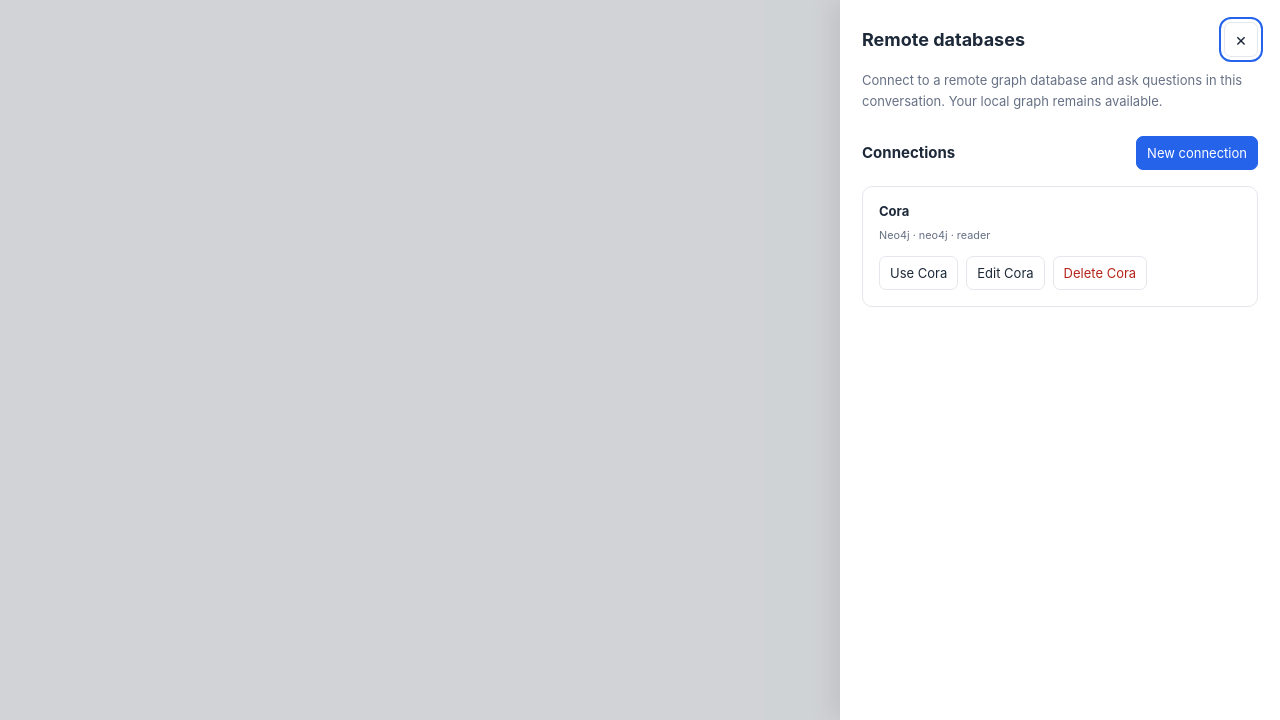
Test: saves once and retries only binding after a binding failure
The width and height of the screenshot is (1280, 720).
Click the button "Edit Cora" at (1005, 273), box x1=966 y1=256 x2=1045 y2=290
(page scrolled)
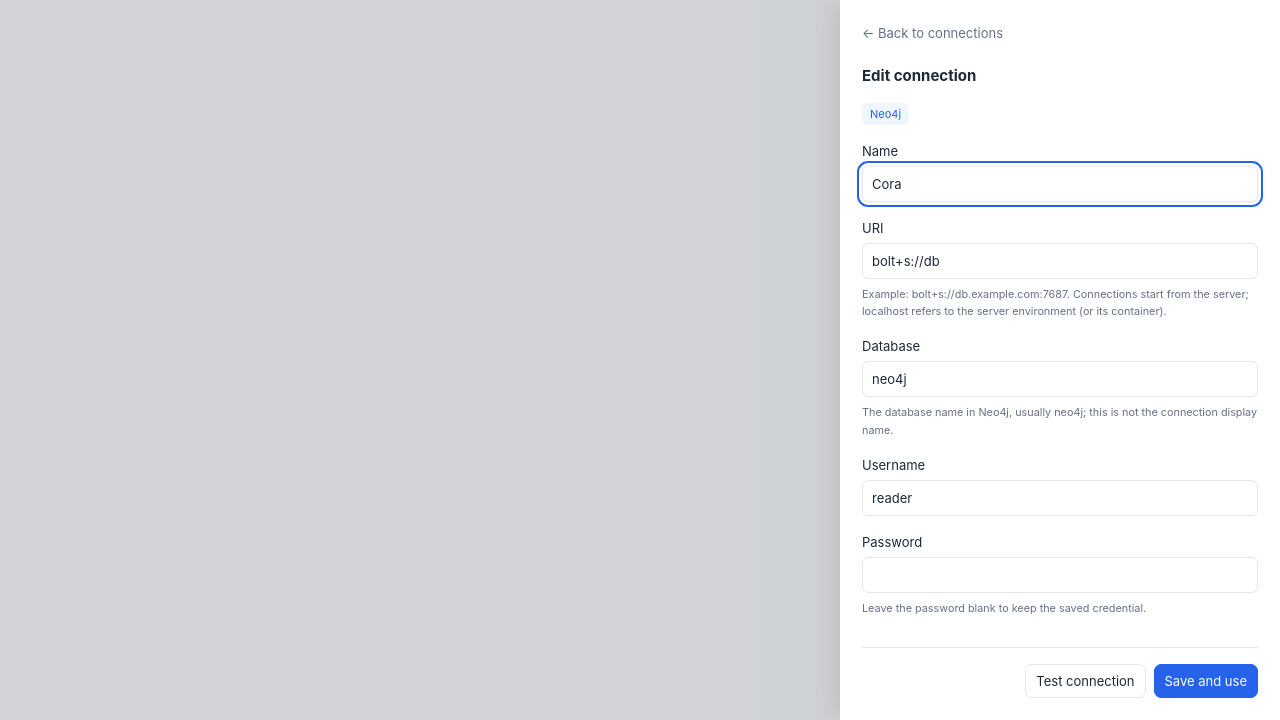
Click the button "Save and use" at (1206, 681), box x1=1154 y1=664 x2=1258 y2=698
(page scrolled)
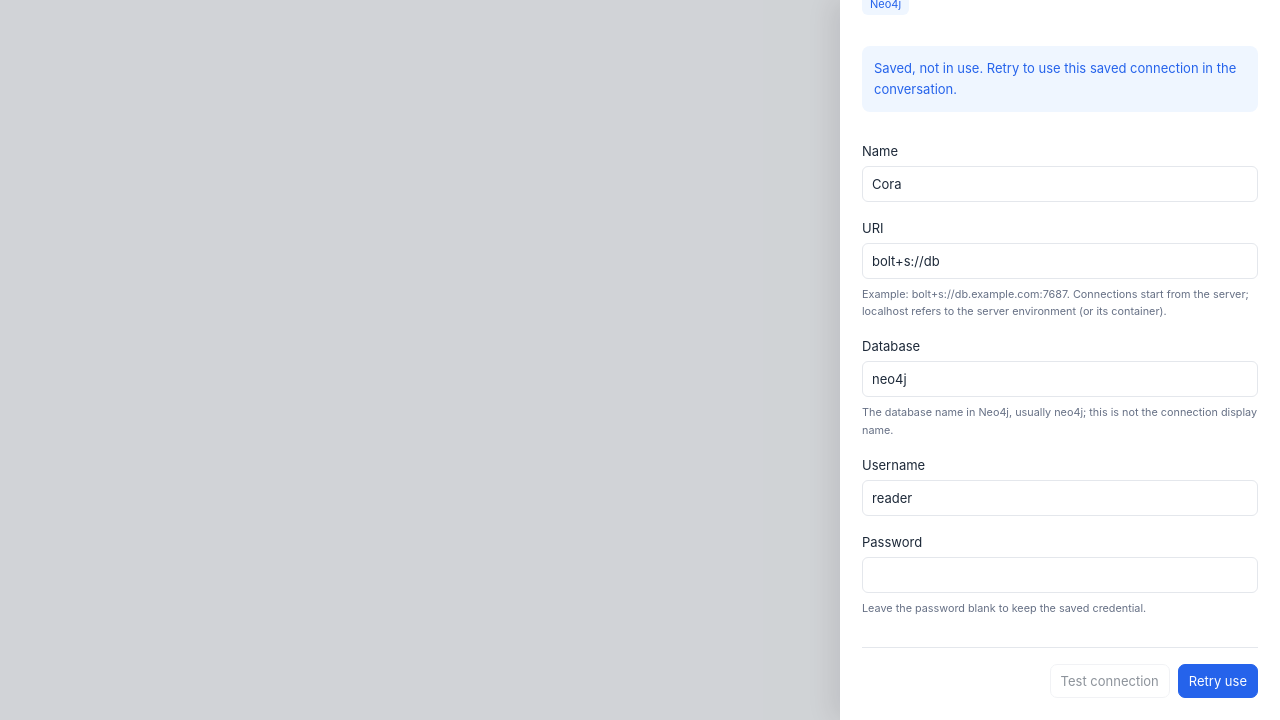
expect the text "Saved, not in use. Retry to use this saved connection in the conversation." is shown: met, box x1=862 y1=46 x2=1258 y2=112
Click the button "Retry use" at (1218, 681), box x1=1178 y1=664 x2=1258 y2=698
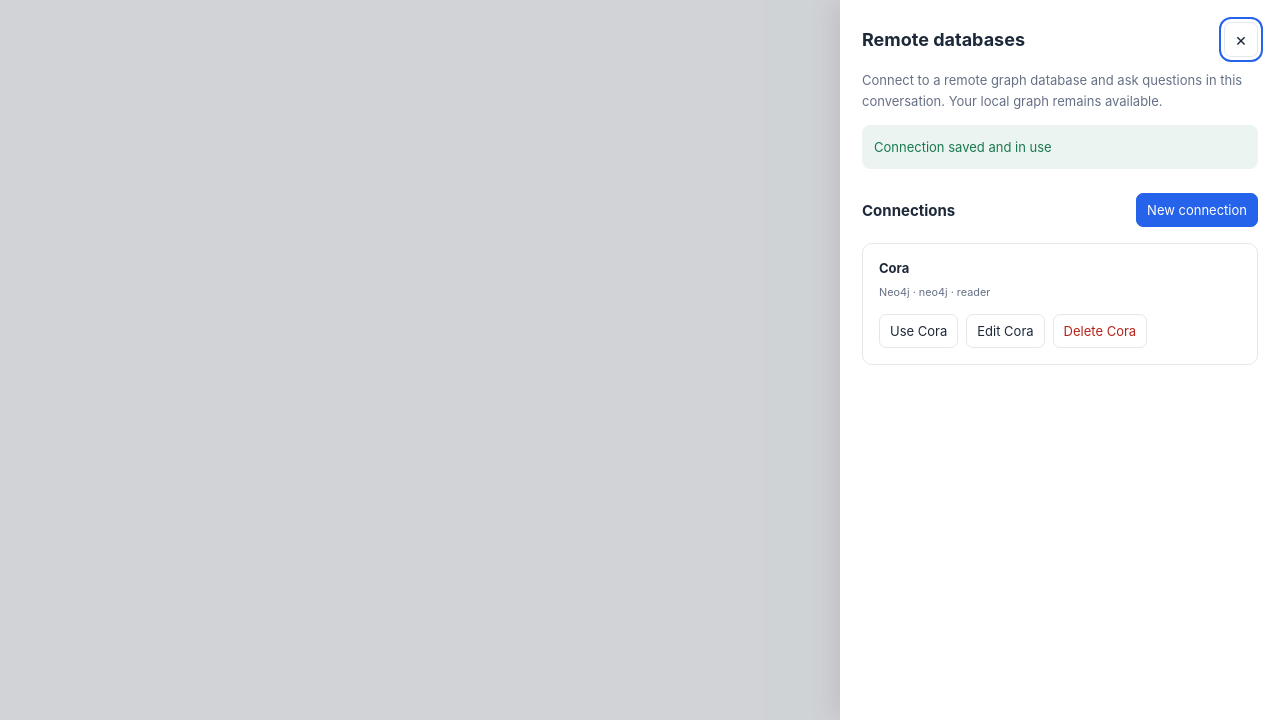
expect the label labelled "Name" is gone: met
